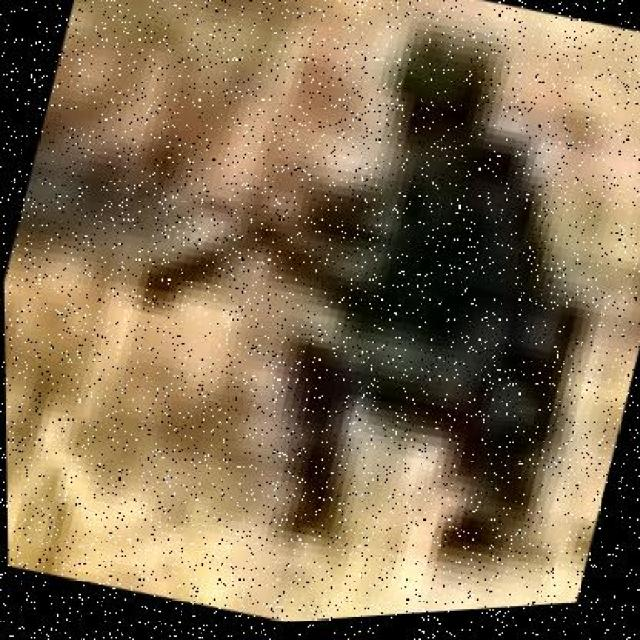MIL_Pax: (171, 0, 640, 617)
